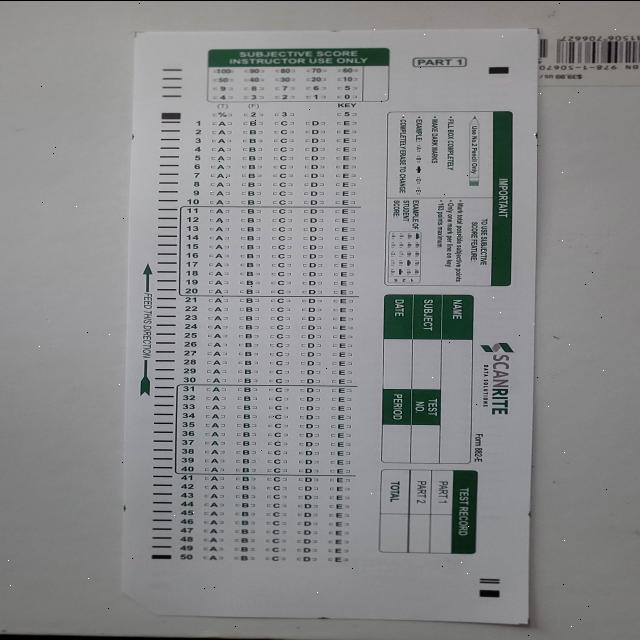scantron: (119, 27, 540, 624)
